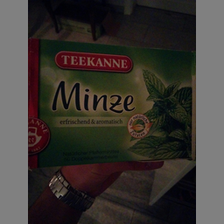tea: (29, 38, 194, 170)
